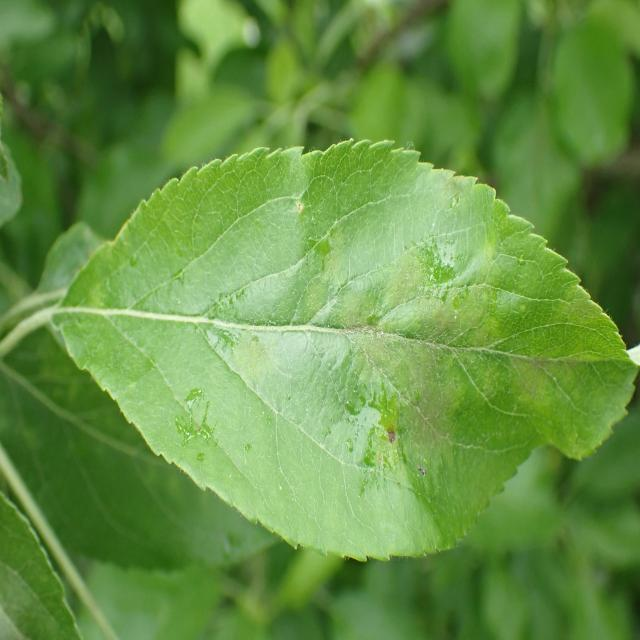scab: (147, 179, 621, 492)
